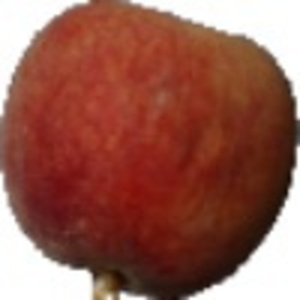pêssego: (1, 1, 300, 300)
